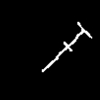double_crochet: (42, 22, 91, 71)
